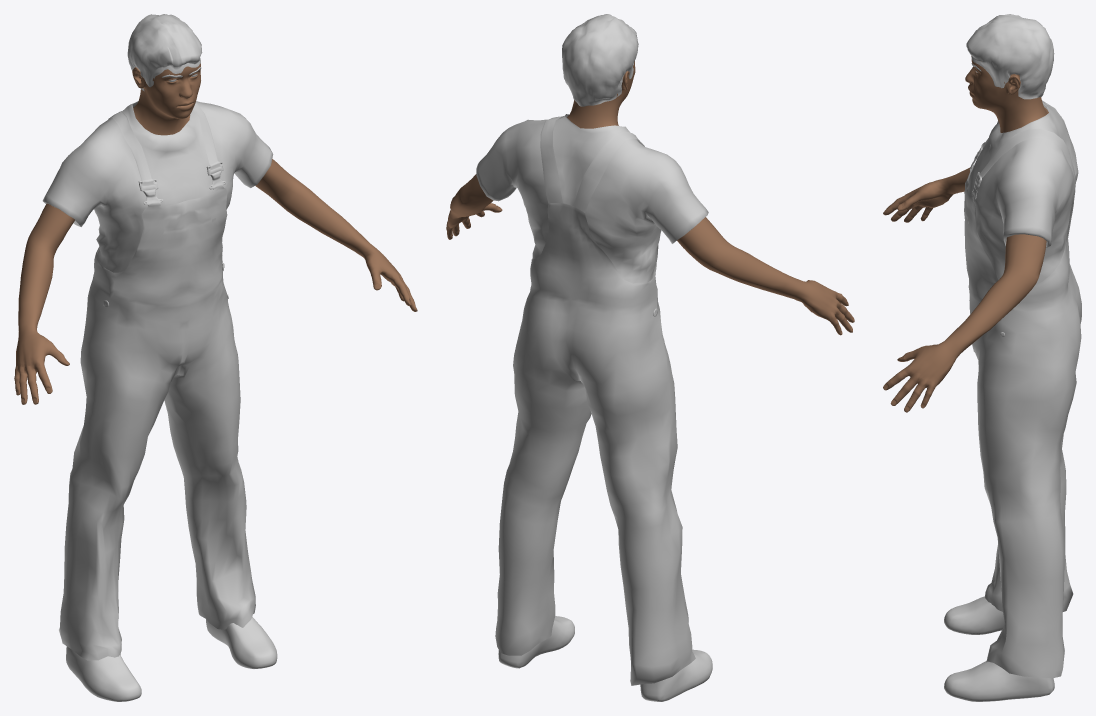
The picture shows the model from 3 angles, left to right: view 1: azimuth 30°, elevation 25°; view 2: azimuth 150°, elevation 25°; view 3: azimuth 270°, elevation 25°; orthographic projection.
Visible parts, largest first — view 1: male_worksuit01.obj, base.obj, shoes02.obj, short02.obj; view 2: male_worksuit01.obj, base.obj, short02.obj, shoes02.obj; view 3: male_worksuit01.obj, base.obj, short02.obj, shoes02.obj.
Part boxes in pixels (x1,y1,x2,y2): male_worksuit01.obj: [42, 101, 273, 660]; base.obj: [14, 63, 417, 404]; shoes02.obj: [66, 617, 277, 701]; short02.obj: [127, 14, 202, 91]; male_worksuit01.obj: [476, 114, 708, 685]; base.obj: [446, 61, 854, 335]; short02.obj: [562, 14, 638, 106]; shoes02.obj: [498, 616, 712, 701]; male_worksuit01.obj: [964, 100, 1081, 677]; base.obj: [883, 56, 1048, 412]; short02.obj: [966, 14, 1054, 99]; shoes02.obj: [944, 596, 1054, 701].
Bounding box in the file's own units: 1.12 × 1.75 × 0.4913.
